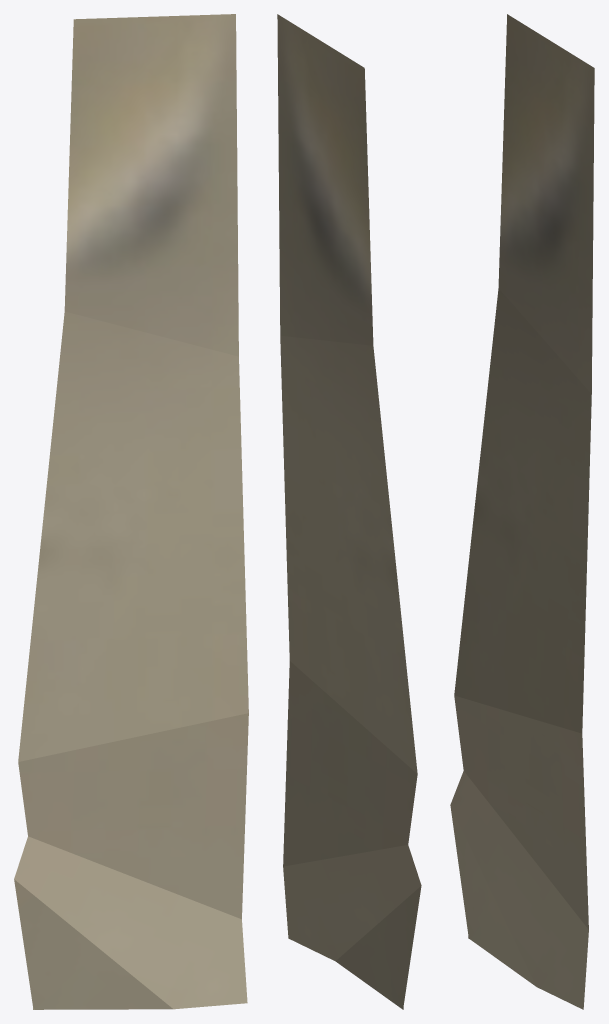
3 views of the same model, side by side, from view 1: azimuth 30°, elevation 25°; view 2: azimuth 150°, elevation 25°; view 3: azimuth 330°, elevation 25° (orthographic). The views are drawn at different scales.
Size of the model in its own units: 0.1669 by 0.8374 by 0.0745.
1 material, 1 textured.
